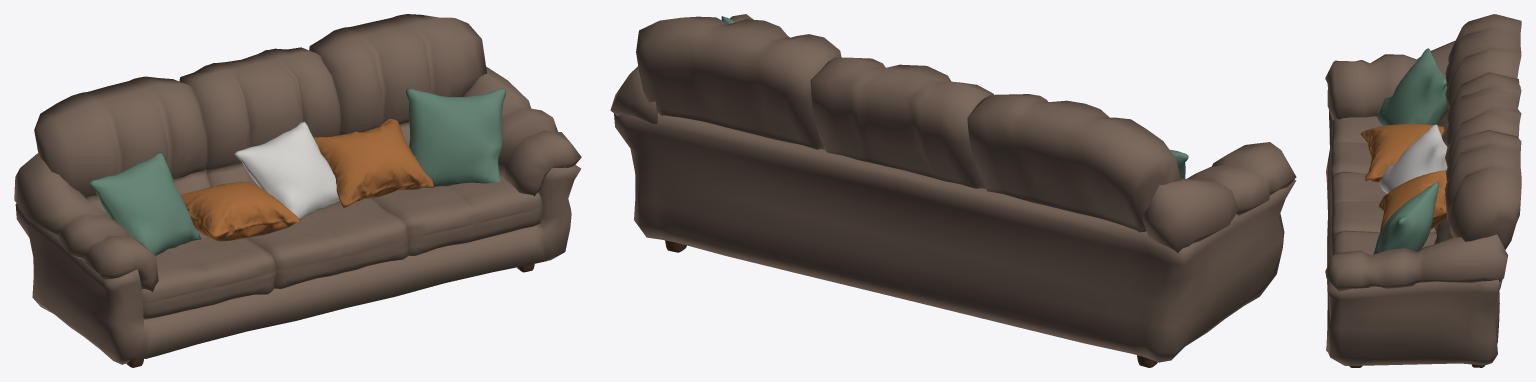
File: sofa_classic.glb
The picture shows the model from 3 angles, left to right: view 1: azimuth 30°, elevation 25°; view 2: azimuth 150°, elevation 25°; view 3: azimuth 270°, elevation 25°; orthographic projection. The views are drawn at different scales.
Parts seen in each view (by area): view 1: Couch - Frame; view 2: Couch - Frame; view 3: Couch - Frame.
Boxes of the visible parts, box(x1,y1,x2,y2) form: Couch - Frame: box(14, 14, 581, 367); Couch - Frame: box(610, 14, 1296, 367); Couch - Frame: box(1325, 14, 1521, 367).
Bounding box in the file's own units: 2.82 × 1.11 × 1.07.
